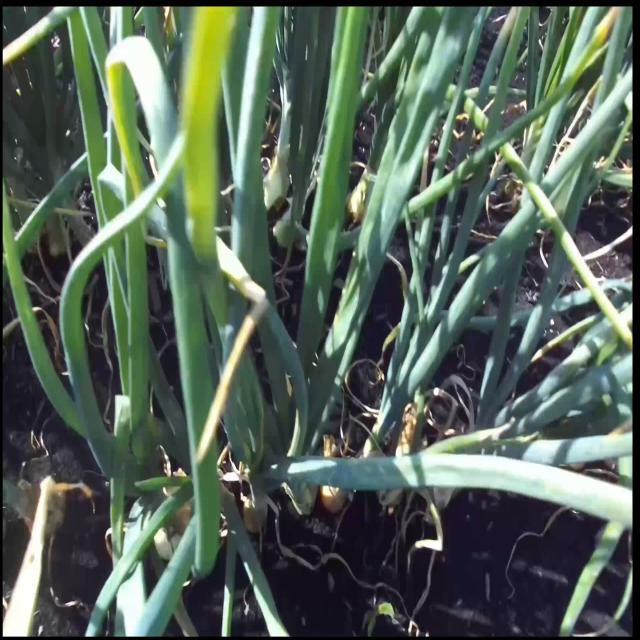onion: (242, 492, 270, 537), (348, 180, 371, 228)
